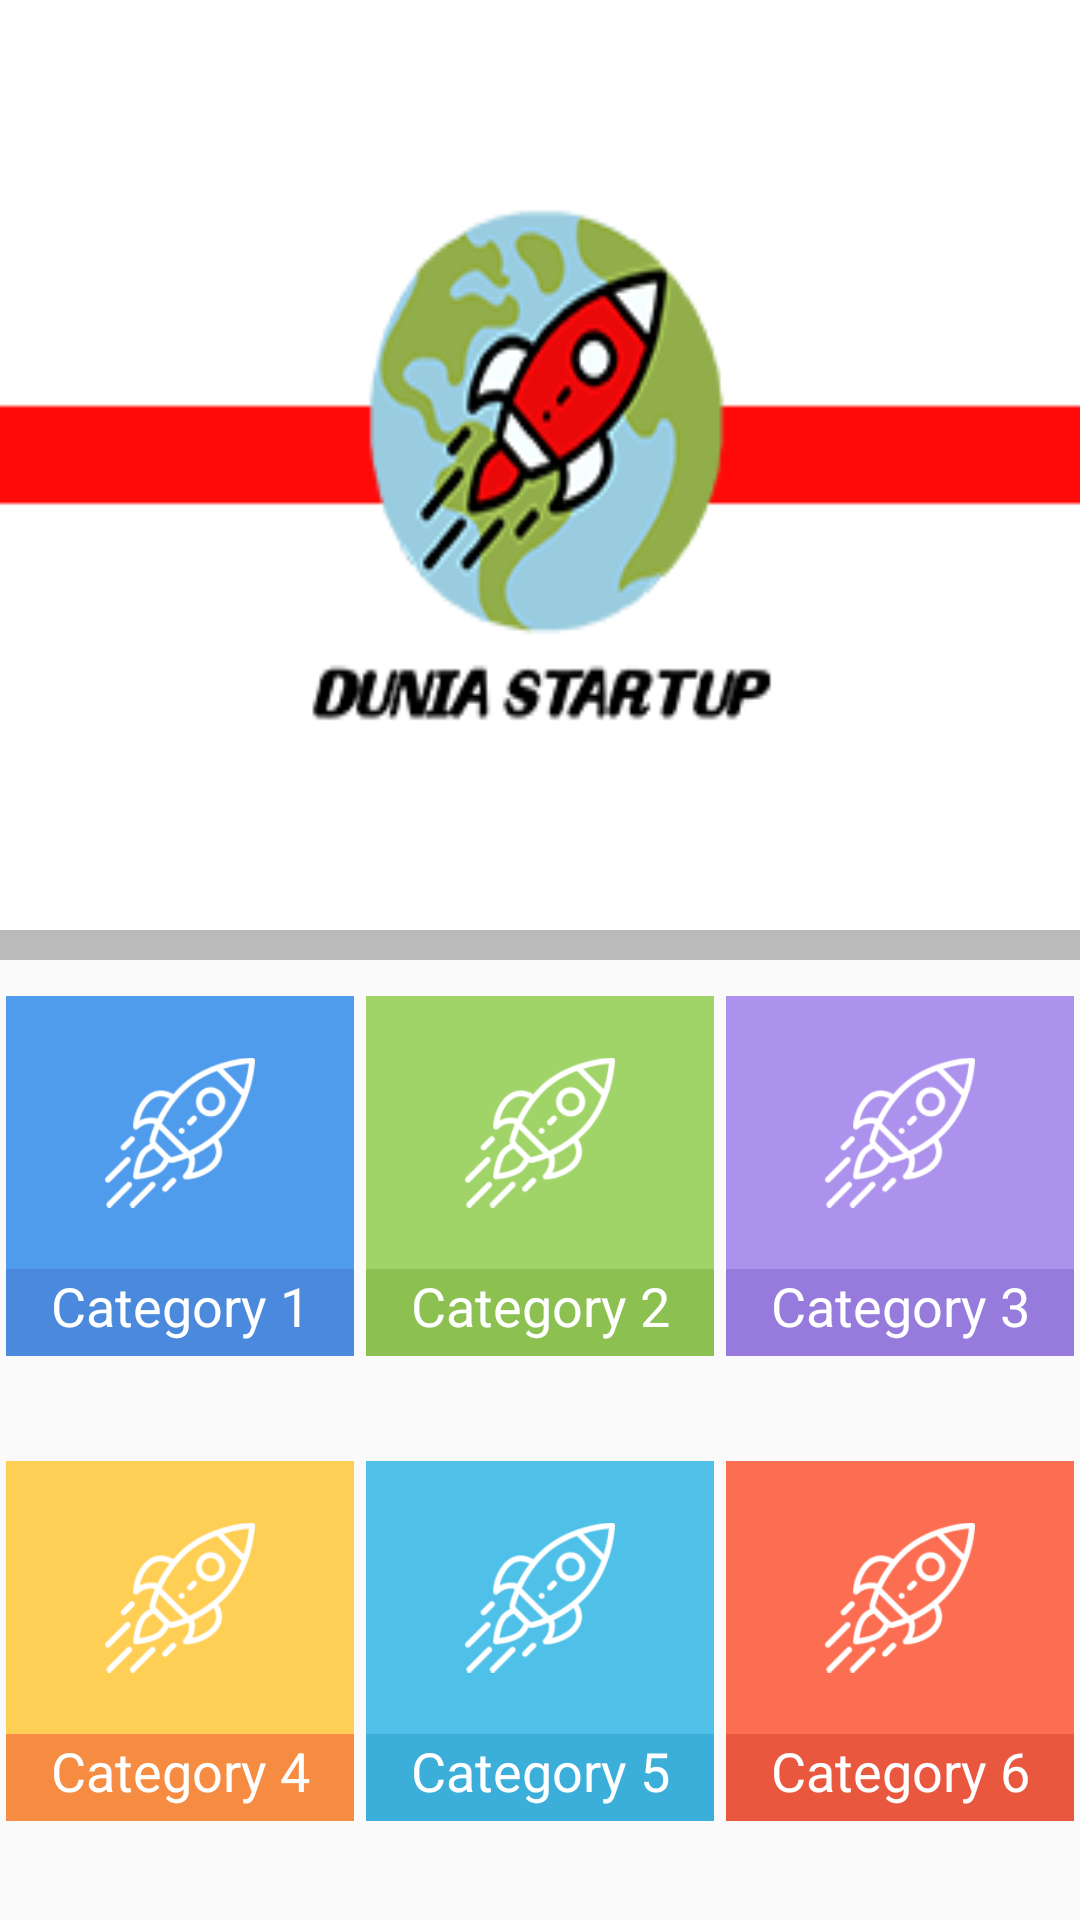

Named icons in this screenshot (1080 x 1920) and their bounding boxes, (x1, y1, x2, y2):
startup: (105, 1058, 255, 1208), (465, 1058, 615, 1208), (825, 1058, 975, 1208), (105, 1523, 255, 1673), (465, 1523, 615, 1673), (825, 1523, 975, 1673)
